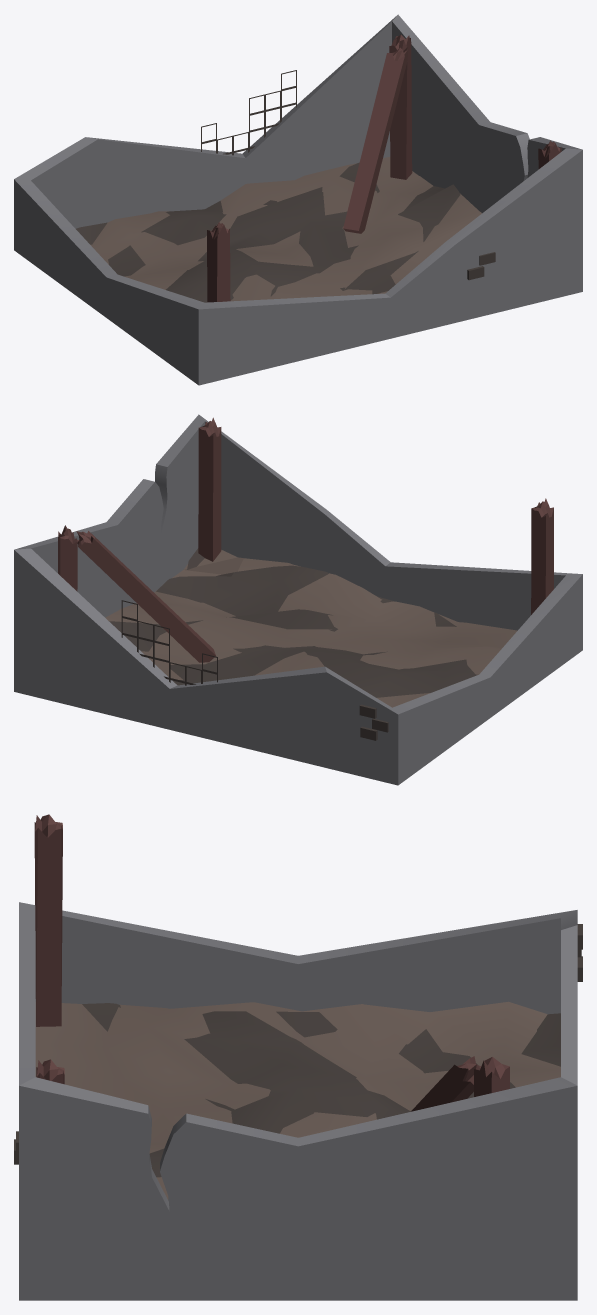
The model's file is ruine_v1.fbx.
The picture shows the model from 3 angles, top to bottom: view 1: azimuth 30°, elevation 25°; view 2: azimuth 150°, elevation 25°; view 3: azimuth 270°, elevation 25°; orthographic projection. The views are drawn at different scales.
Visible parts, largest first — view 1: debri v1; view 2: debri v1; view 3: debri v1.
Boxes of the visible parts, x1,y1,x2,y2 form: debri v1: (14, 14, 582, 385); debri v1: (14, 414, 582, 785); debri v1: (14, 814, 582, 1300).
Bounding box in the file's own units: 900 × 346 × 764.
1 material, 1 textured.
